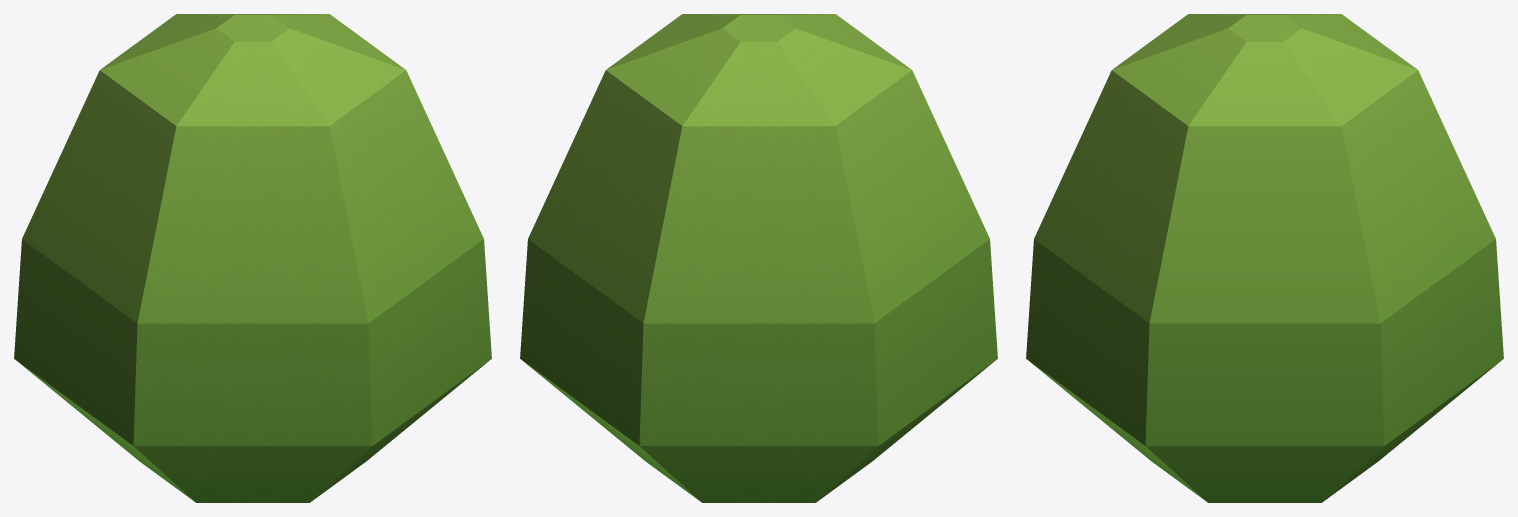
The model's file is cocoVerde.fbx.
3 views of the same model, side by side, from view 1: azimuth 30°, elevation 25°; view 2: azimuth 150°, elevation 25°; view 3: azimuth 270°, elevation 25° (orthographic).
Visible parts, largest first — view 1: cocoVerde; view 2: cocoVerde; view 3: cocoVerde.
Part boxes in pixels (x1,y1,x2,y2): cocoVerde: (14, 14, 491, 502); cocoVerde: (520, 14, 997, 502); cocoVerde: (1026, 14, 1503, 502).
Size of the model in its own units: 21.66 by 25.01 by 25.01.
1 material, 1 textured.
